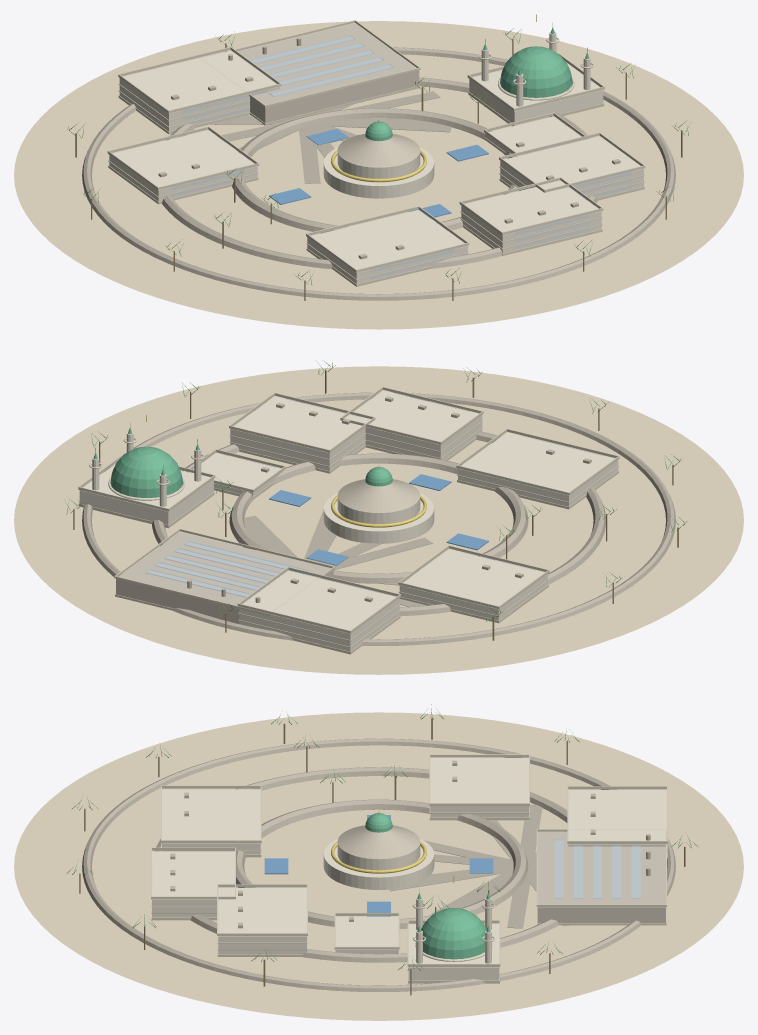
File: campus.glb
The picture shows the model from 3 angles, top to bottom: view 1: azimuth 30°, elevation 25°; view 2: azimuth 150°, elevation 25°; view 3: azimuth 270°, elevation 25°; orthographic projection.
Parts seen in each view (by area): view 1: CampusPave, B6Body, Ring148, B7Body, B1Body, B8Body, B2Body, B3Body, Ring72, Ring112, B5Body, B5Dome (+14 smaller); view 2: CampusPave, B6Body, Ring148, B7Body, B1Body, B3Body, B8Body, B2Body, Ring72, B5Body, B5Dome, Ring112 (+12 smaller); view 3: CampusPave, B6Body, Ring148, B1Body, B3Body, B8Body, B7Body, B2Body, Ring72, Ring112, B5Dome, CentralBase (+12 smaller).
Part boxes in pixels (x1,y1,x2,y2): CampusPave: (14,21,743,329); B6Body: (234,23,419,123); Ring148: (82,47,675,300); B7Body: (119,51,279,131); B1Body: (307,210,467,283); B8Body: (109,130,257,201); B2Body: (461,181,601,253); B3Body: (500,136,643,198); Ring72: (232,108,519,233); Ring112: (162,77,597,269); B5Body: (469,64,603,122); B5Dome: (500,46,572,97); CampusPave: (14,366,743,674); B6Body: (116,532,333,623); Ring148: (82,392,675,645); B7Body: (239,570,399,651); B1Body: (458,432,618,506); B3Body: (230,396,369,470); B8Body: (399,549,547,620); B2Body: (345,390,482,459); Ring72: (229,453,528,583); B5Body: (79,464,213,525); B5Dome: (110,446,182,497); Ring112: (152,431,605,616); CampusPave: (14,712,743,1020); B6Body: (537,832,665,922); Ring148: (82,738,675,991); B1Body: (162,789,260,854); B3Body: (218,888,306,954); B8Body: (430,758,528,817); B7Body: (568,790,666,846); B2Body: (152,851,234,917); Ring72: (236,799,528,928); Ring112: (155,767,567,962); B5Dome: (421,908,486,959); CentralBase: (323,839,434,889).
Size of what is drawn, in the model's own units: 370 by 51.68 by 370.
